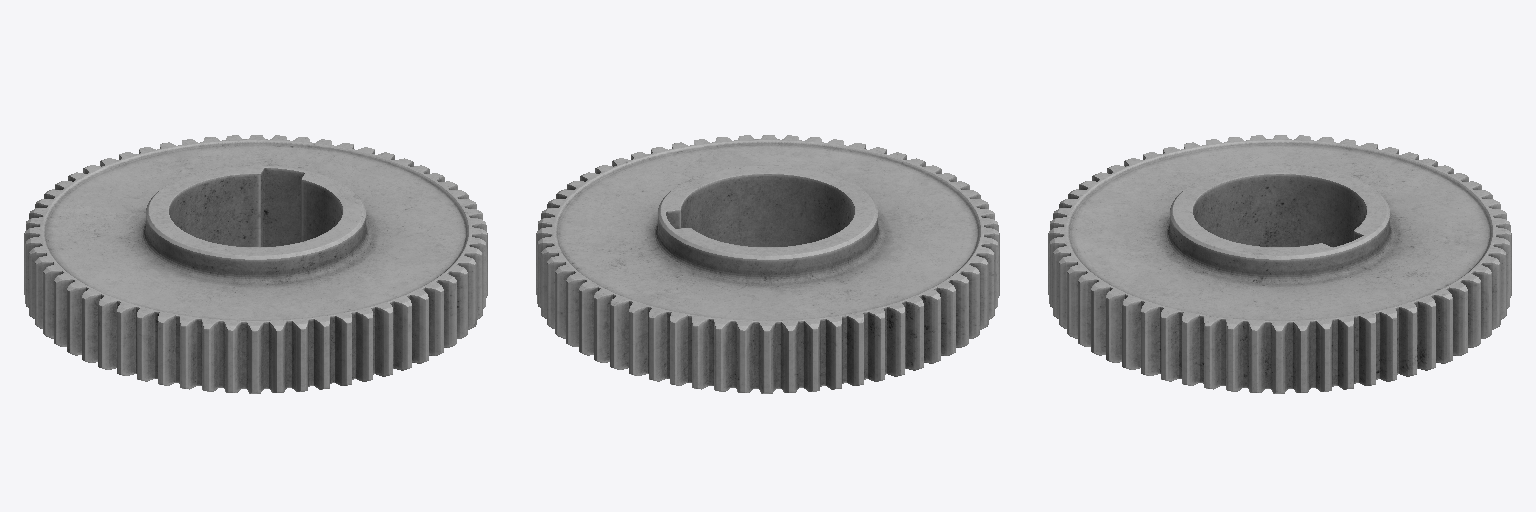
The picture shows the model from 3 angles: view 1: azimuth 30°, elevation 25°; view 2: azimuth 150°, elevation 25°; view 3: azimuth 270°, elevation 25°; orthographic projection.
Visible parts, largest first — view 1: Gear2; view 2: Gear2; view 3: Gear2.
Boxes of the visible parts, x1,y1,x2,y2 form: Gear2: [24, 135, 487, 393]; Gear2: [536, 135, 999, 393]; Gear2: [1048, 135, 1511, 393].
Size of the model in its own units: 18.14 by 3.93 by 18.14.
Materials: 1 (1 with a texture image).